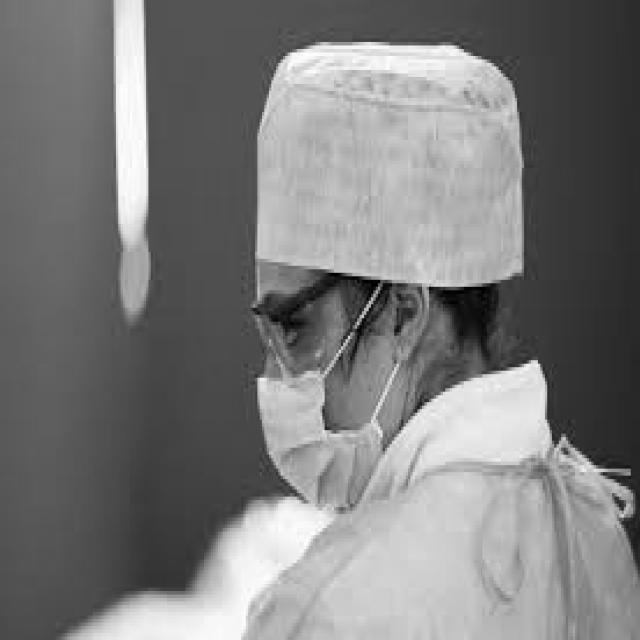without_mask: (253, 280, 403, 510)
